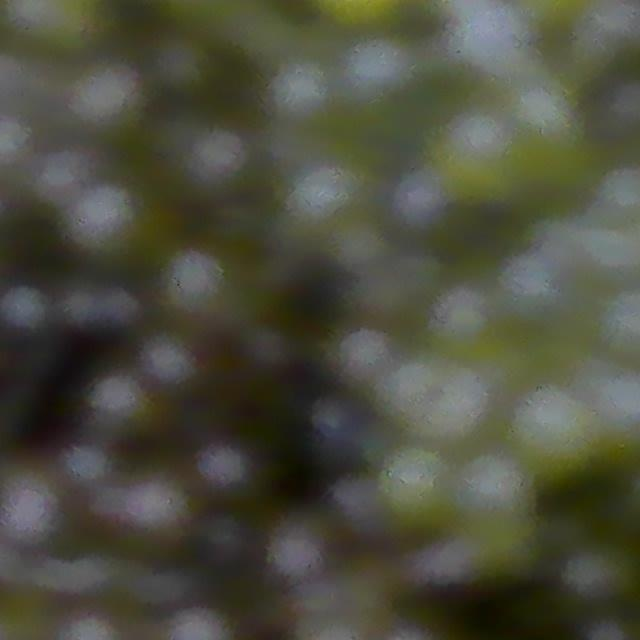SeaGrape: (435, 108, 531, 207), (74, 365, 164, 458), (510, 386, 597, 474), (0, 471, 82, 564), (105, 477, 195, 558), (139, 340, 228, 413), (65, 183, 143, 262), (379, 443, 452, 526), (266, 529, 342, 608), (186, 449, 271, 517), (455, 450, 531, 525), (341, 35, 415, 102)
